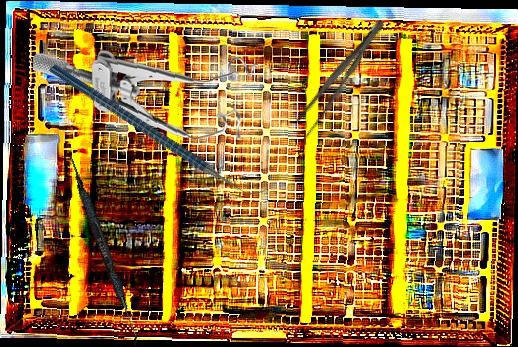Chopper: (48, 8, 270, 253)
Dressing Forceps: (288, 14, 392, 143)
Spatula Surgical: (61, 150, 146, 346)
Speculum: (32, 40, 262, 152)
